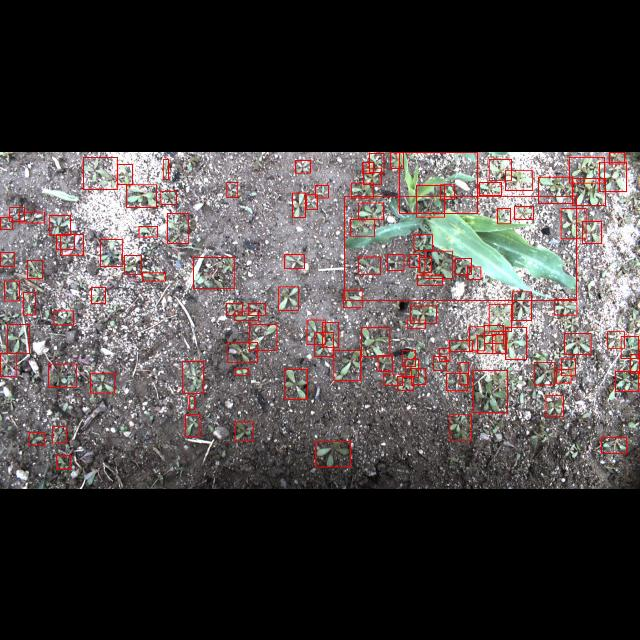crop: (344, 194, 576, 300), (398, 152, 478, 212)
weed: (473, 370, 507, 412), (193, 256, 234, 288), (83, 157, 117, 189), (539, 175, 573, 202), (572, 178, 606, 205), (417, 184, 445, 216), (570, 156, 604, 182), (316, 442, 350, 466), (362, 328, 390, 357), (334, 350, 361, 380), (424, 250, 452, 278), (560, 208, 586, 238), (600, 161, 626, 191), (249, 324, 277, 350), (284, 369, 308, 399), (182, 361, 204, 393), (48, 363, 76, 387), (126, 184, 156, 206), (7, 323, 29, 353), (506, 327, 526, 359), (488, 304, 512, 330), (100, 238, 122, 266), (228, 342, 258, 362), (168, 213, 188, 243), (512, 290, 532, 320), (505, 169, 533, 189), (565, 332, 591, 353), (450, 414, 470, 440), (489, 158, 511, 180), (61, 233, 84, 254), (314, 332, 334, 356), (278, 286, 298, 310), (90, 372, 114, 392), (307, 318, 325, 344), (410, 305, 436, 323), (582, 221, 602, 243), (616, 371, 638, 391), (534, 362, 554, 384), (350, 218, 374, 236), (358, 202, 384, 218), (50, 214, 70, 234), (358, 256, 380, 274), (621, 336, 639, 358), (322, 322, 338, 346), (602, 437, 626, 453), (447, 373, 468, 391), (484, 325, 504, 343), (0, 354, 16, 376), (343, 289, 362, 307), (235, 422, 253, 441), (478, 335, 497, 353), (125, 254, 142, 274), (292, 192, 306, 216), (470, 326, 484, 350), (363, 166, 381, 184), (4, 280, 20, 300), (368, 152, 384, 172), (546, 395, 562, 415), (22, 292, 36, 314), (186, 414, 200, 436), (351, 182, 373, 196), (554, 300, 576, 314), (413, 234, 432, 250), (118, 163, 132, 183), (284, 254, 304, 268), (54, 310, 74, 324), (493, 333, 507, 352), (479, 182, 501, 194), (410, 368, 426, 384), (388, 254, 404, 270), (455, 258, 471, 274), (608, 331, 624, 347), (56, 234, 74, 248), (28, 260, 42, 278), (561, 358, 575, 376), (20, 212, 44, 222), (418, 274, 442, 284), (514, 206, 534, 218), (383, 373, 402, 385), (378, 355, 392, 371), (397, 376, 413, 390), (402, 350, 416, 366), (52, 426, 66, 442), (91, 287, 105, 303), (556, 369, 572, 383), (450, 340, 472, 350), (406, 359, 418, 377), (248, 303, 266, 315), (234, 312, 258, 321), (160, 190, 176, 203), (391, 151, 404, 167), (138, 226, 158, 236), (630, 354, 640, 374), (459, 362, 468, 384), (10, 207, 24, 221), (0, 252, 14, 266), (30, 432, 44, 446), (56, 455, 70, 469), (467, 266, 481, 280), (440, 184, 454, 198), (142, 272, 166, 280), (226, 303, 242, 315), (419, 256, 431, 272), (296, 160, 310, 172), (306, 194, 318, 208), (226, 182, 238, 196), (434, 356, 446, 370), (498, 208, 510, 222), (610, 151, 624, 163), (406, 319, 426, 327), (316, 185, 328, 198), (0, 216, 12, 228), (163, 158, 169, 178), (440, 348, 450, 360), (409, 254, 419, 266), (362, 162, 373, 172), (189, 395, 195, 409), (236, 368, 248, 374)
